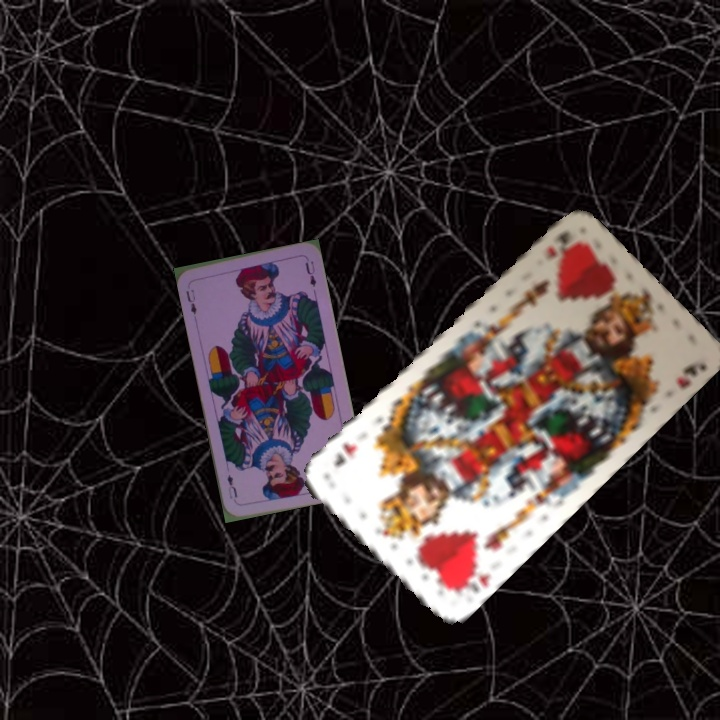EU: (182, 280, 199, 317)
HK: (444, 560, 494, 597), (541, 227, 573, 263)
